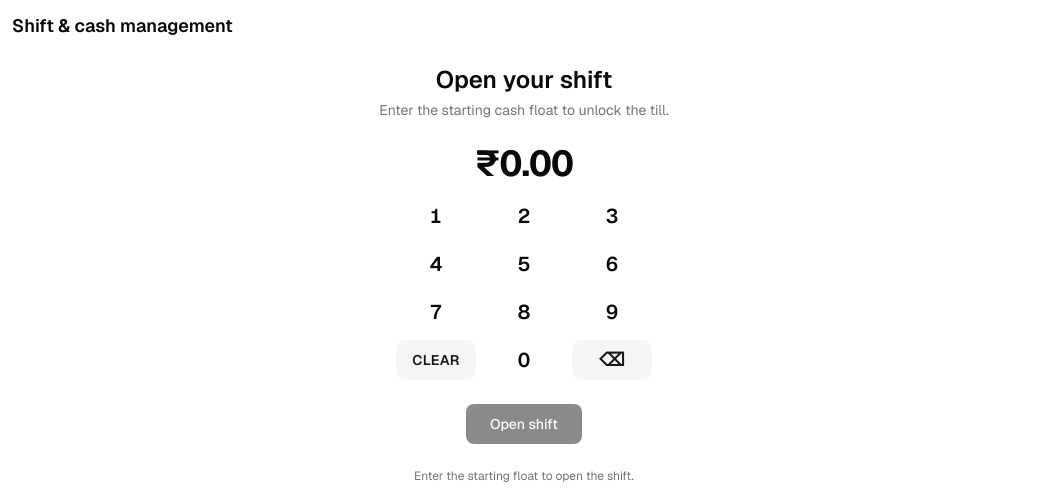
Scenario: ShiftScreen - open shift › opens a shift with the entered float and shows the dashboard
The image size is (1048, 501).
Expected: the element with test id "open-shift-form" is shown, 379,64 -> 669,484
Click the button with test id "open-shift-keypad-digit-2": (524, 216) 484,196 -> 564,236
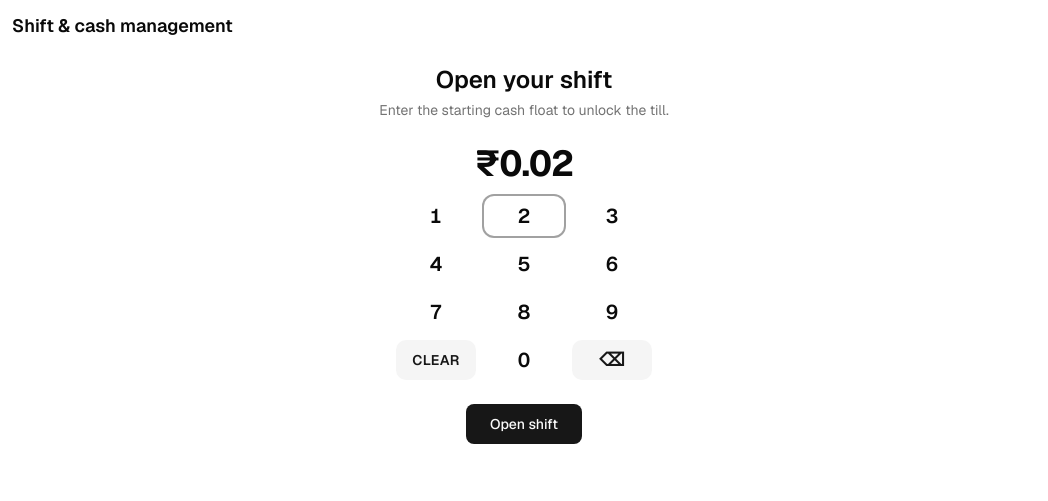
Click the button with test id "open-shift-keypad-digit-0": (524, 360) 484,340 -> 564,380
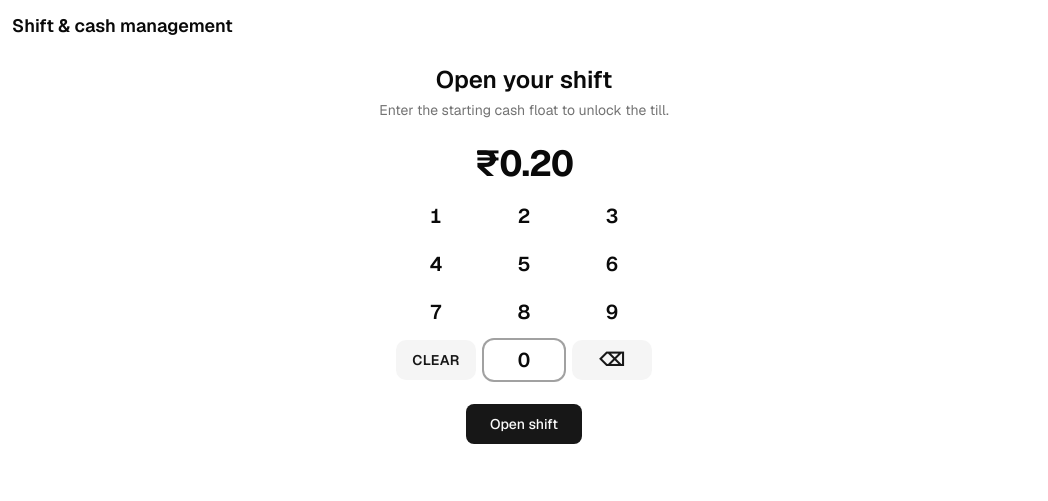
Click the button with test id "open-shift-keypad-digit-0": (524, 360) 484,340 -> 564,380
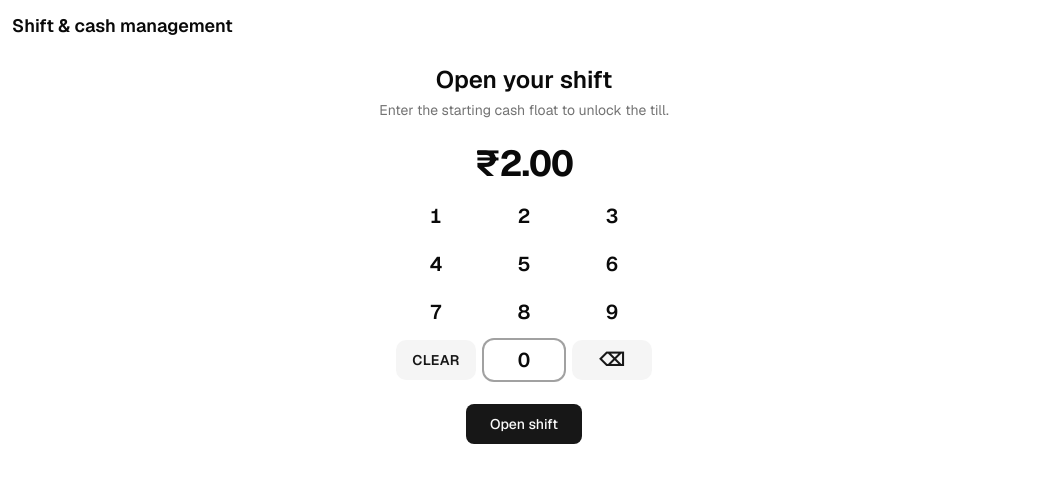
Click the button with test id "open-shift-keypad-digit-0": (524, 360) 484,340 -> 564,380
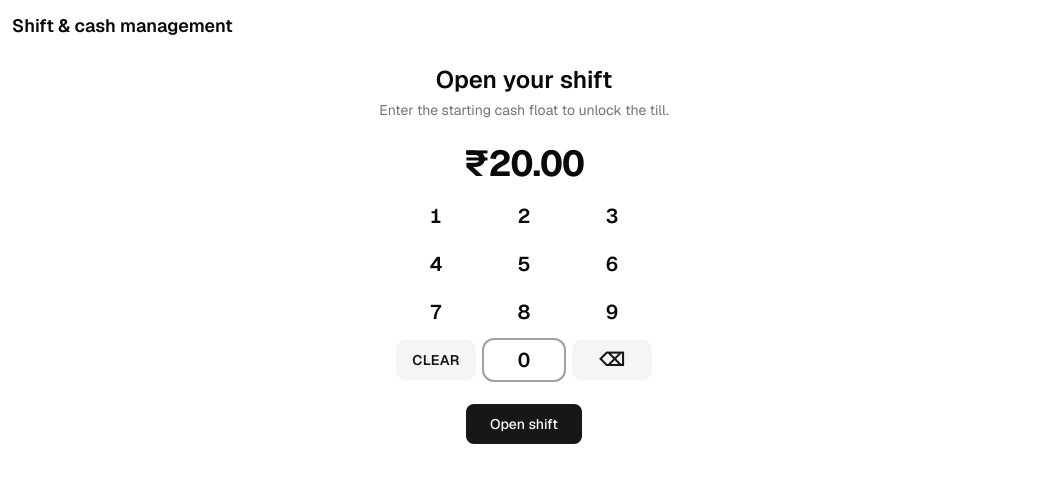
Click the button with test id "open-shift-submit": (524, 424) 466,404 -> 582,444
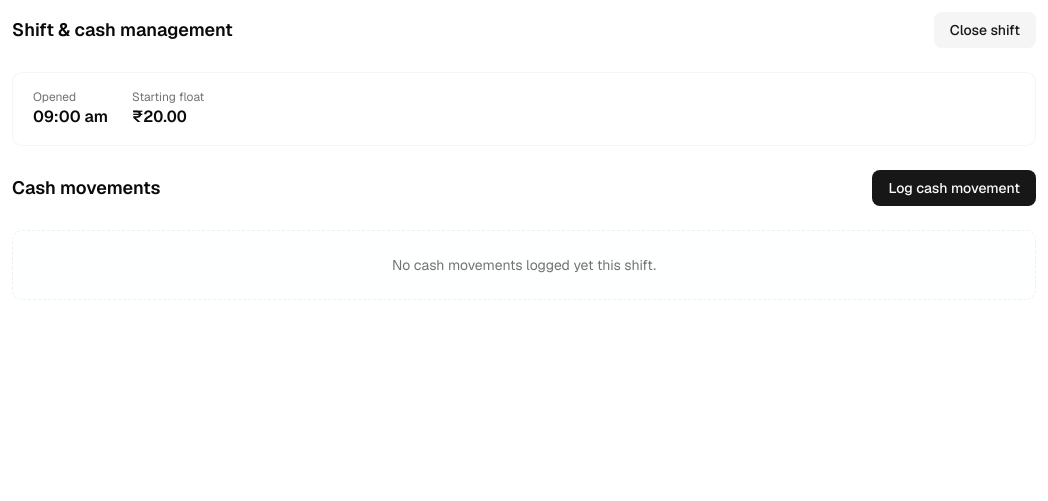
Expected: the text with test id "shift-opening-float" reads "₹20.00", 132,106 -> 187,127
Expected: the element with test id "shift-dashboard" is shown, 12,72 -> 1036,300
Expected: the text "No cash movements logged yet this shift." is shown, 12,230 -> 1036,300
